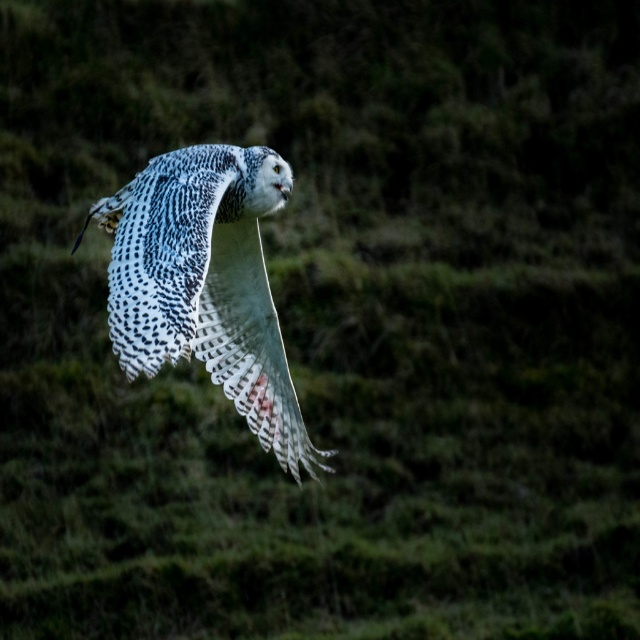Owl: (69, 140, 342, 498)
